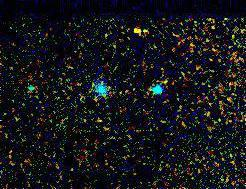star: (127, 16, 157, 46)
